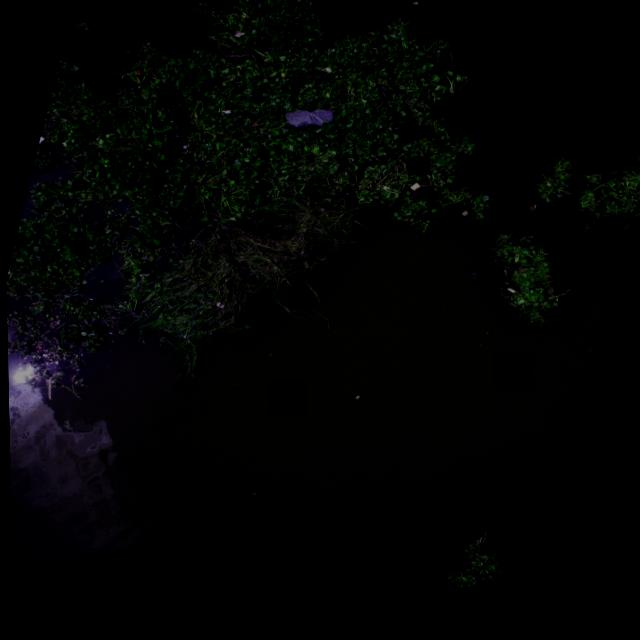plastic: (276, 95, 348, 154), (500, 293, 520, 309), (37, 127, 50, 151), (464, 274, 481, 291), (404, 189, 423, 204), (219, 109, 234, 121), (319, 71, 334, 83), (232, 33, 246, 45), (212, 303, 226, 315), (457, 219, 472, 229), (132, 69, 141, 80)
